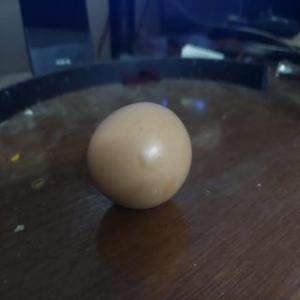egg: (84, 101, 194, 210)
